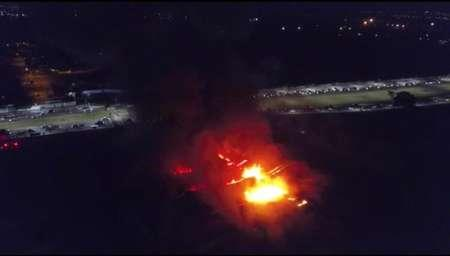fire: (243, 161, 291, 205)
